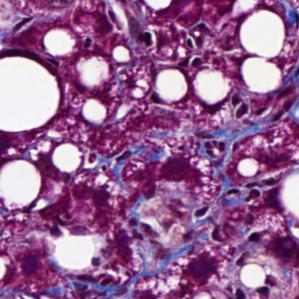inflammation: (224, 173, 264, 220), (184, 193, 221, 238)
